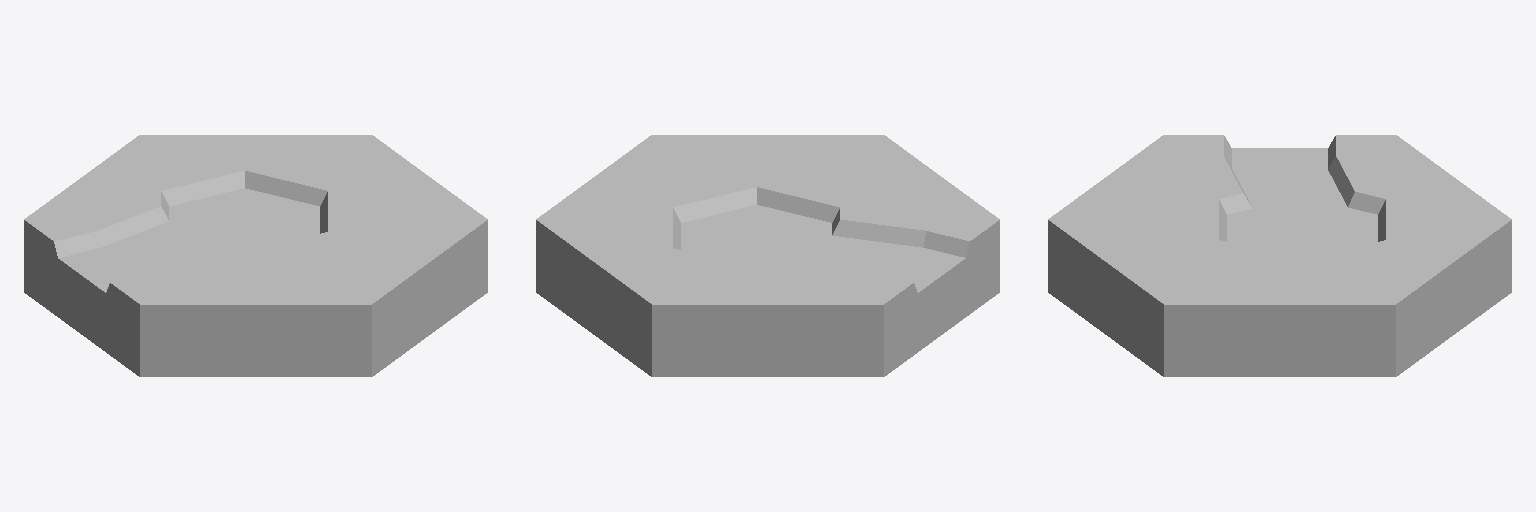
File: river_start.obj
3 renders of one model, left to right at view 1: azimuth 30°, elevation 25°; view 2: azimuth 150°, elevation 25°; view 3: azimuth 270°, elevation 25°, orthographic.
Parts seen in each view (by area): view 1: river_start; view 2: river_start; view 3: river_start.
Boxes of the visible parts, x1=… form: river_start: x1=24, y1=135, x2=487, y2=376; river_start: x1=536, y1=135, x2=999, y2=376; river_start: x1=1048, y1=135, x2=1511, y2=376.
Bounding box in the file's own units: 1 × 0.2 × 1.15.